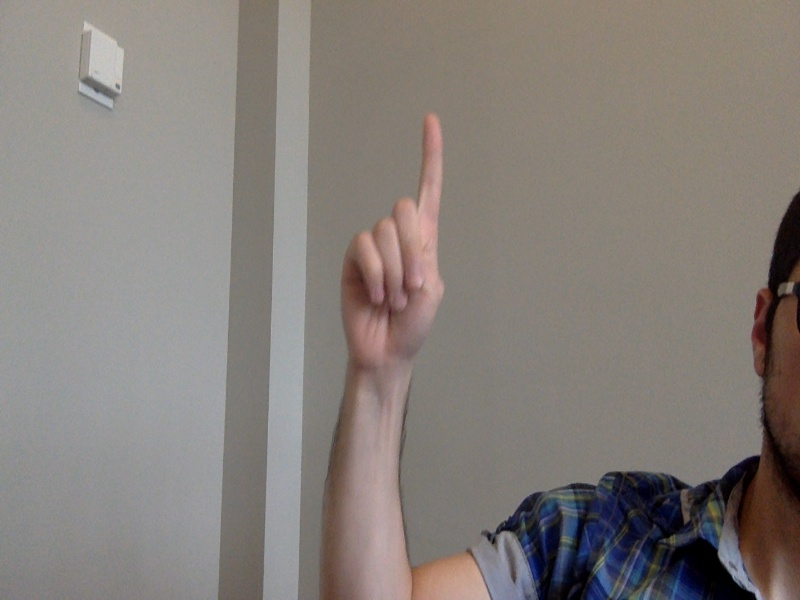1-hand: (338, 111, 448, 375)
